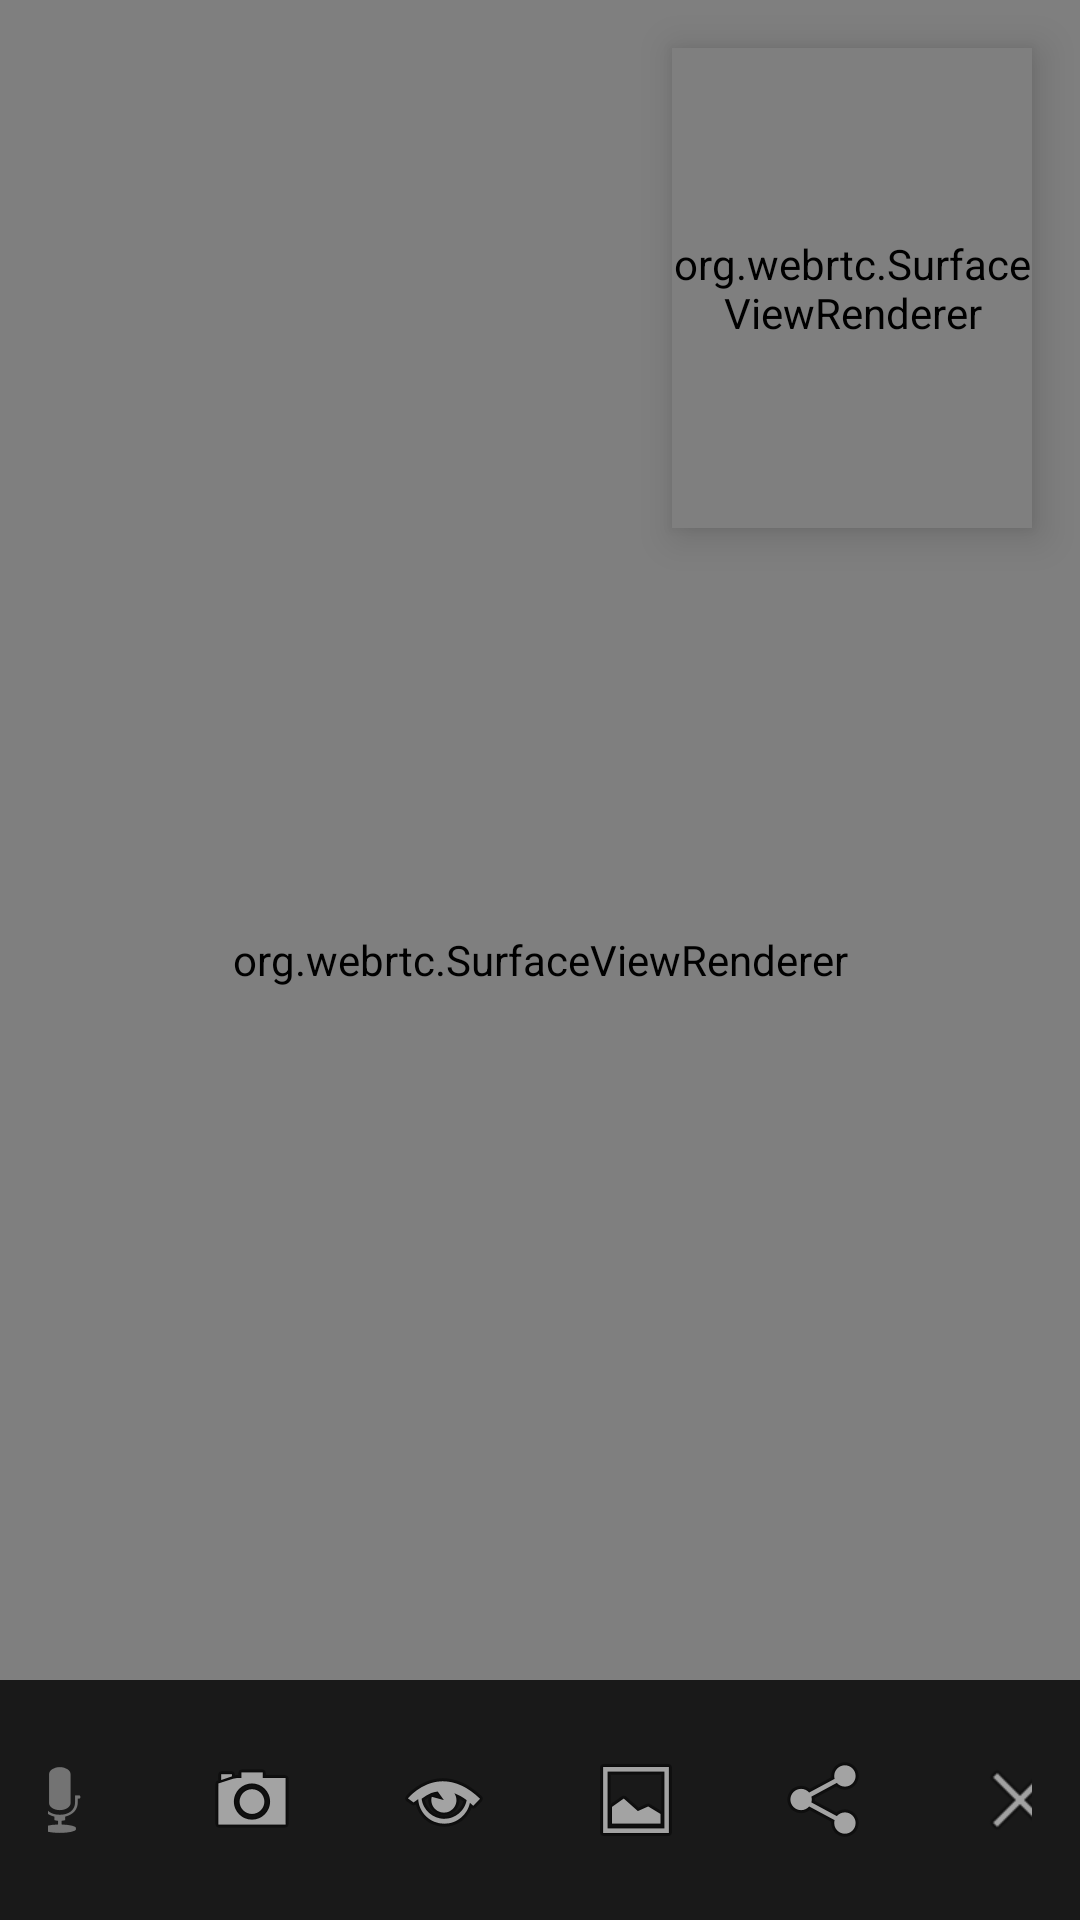

Where icons sit on this 1080w x 1920h app screen, as (x1, y1, x2, y2):
camera: (218, 1772, 286, 1825)
gallery: (603, 1767, 669, 1833)
share: (790, 1765, 856, 1834)
speak now: (48, 1767, 81, 1833)
